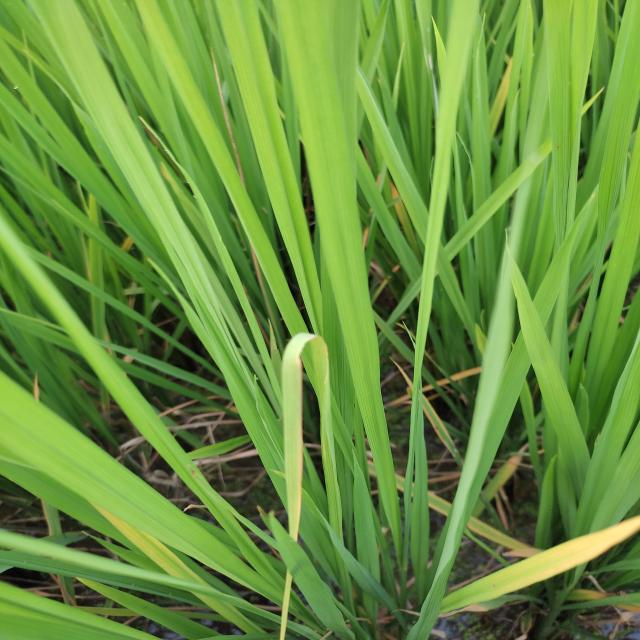HealthyLeaf: (283, 0, 410, 558), (2, 375, 263, 587)
